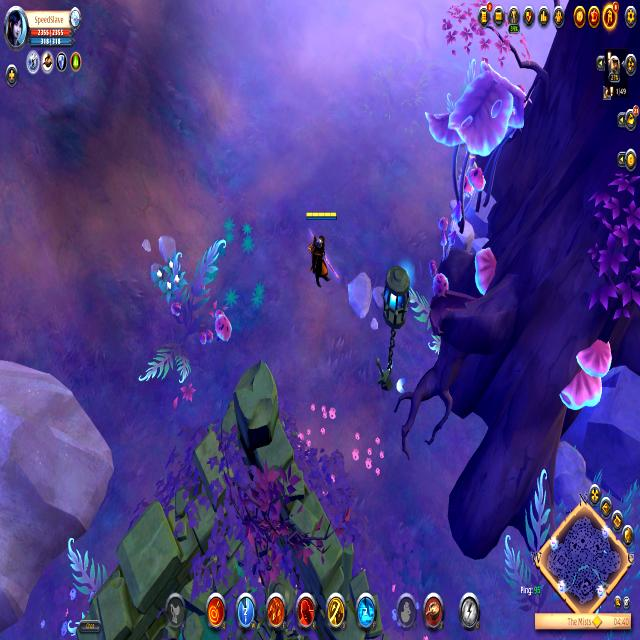10: (374, 256, 412, 398)
hide: (151, 242, 187, 306)
red: (300, 204, 341, 293)
